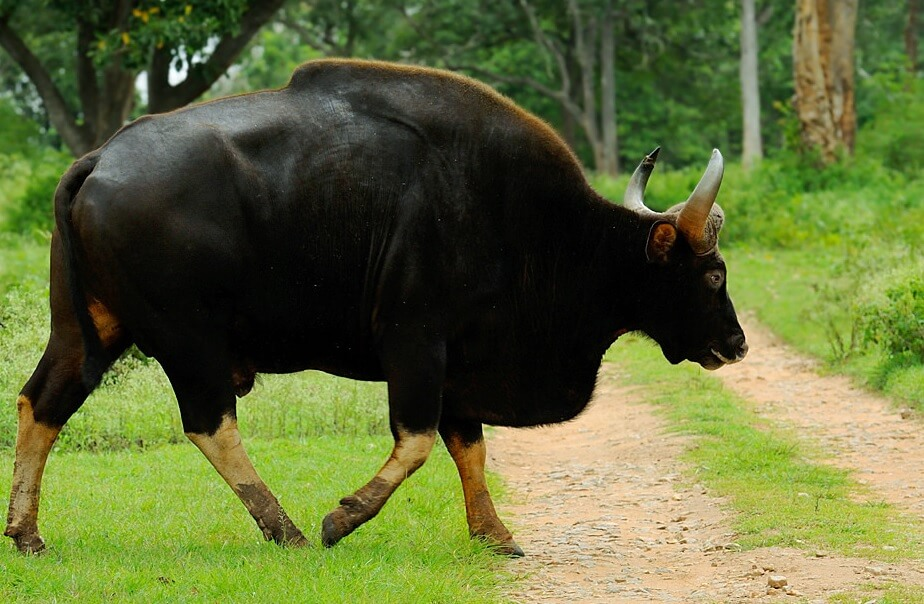bison: (1, 64, 741, 553)
